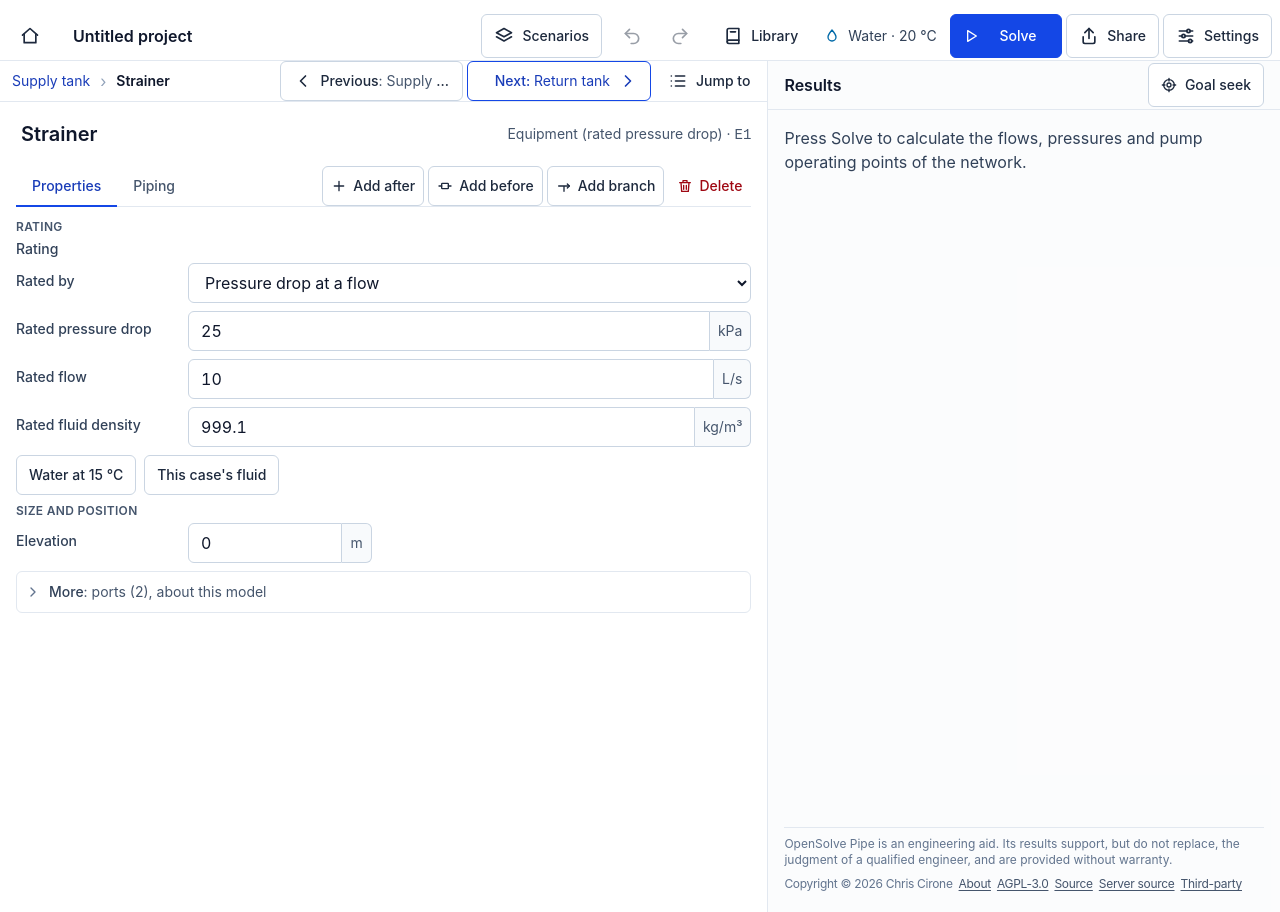
Test: EquipmentForm › stores what is typed exactly in SI, and refuses a value out of the schema bounds
Step 1. Replace the text in the field named "Rated pressure drop (kPa)" with "70" → point(449, 331), box [188,311,710,351]
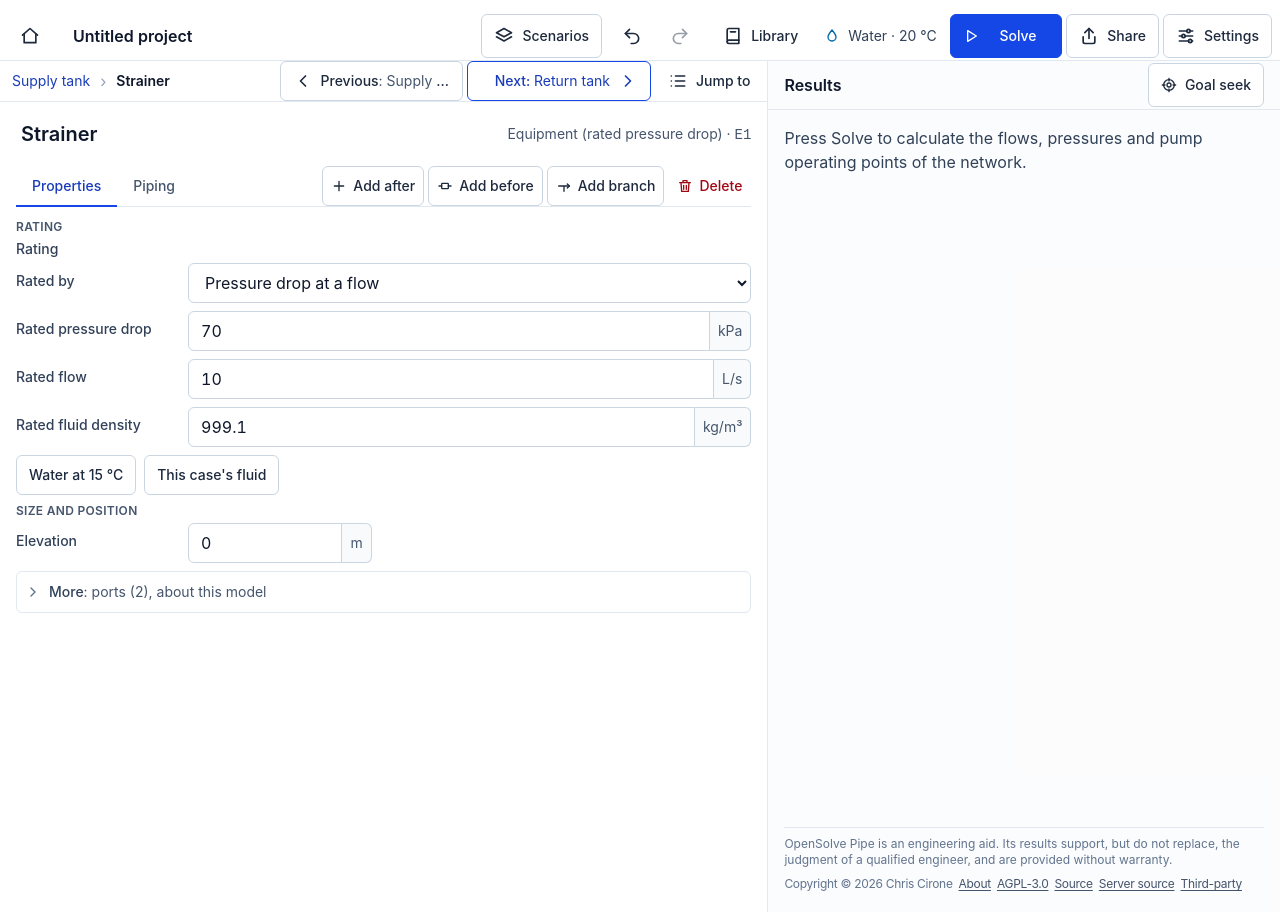
Now the button named "Undo change rated pressure drop" is enabled, box [610,14,654,58]
Step 2. Replace the text in the field named "Rated pressure drop (kPa)" with "0" → point(449, 331), box [188,311,710,351]
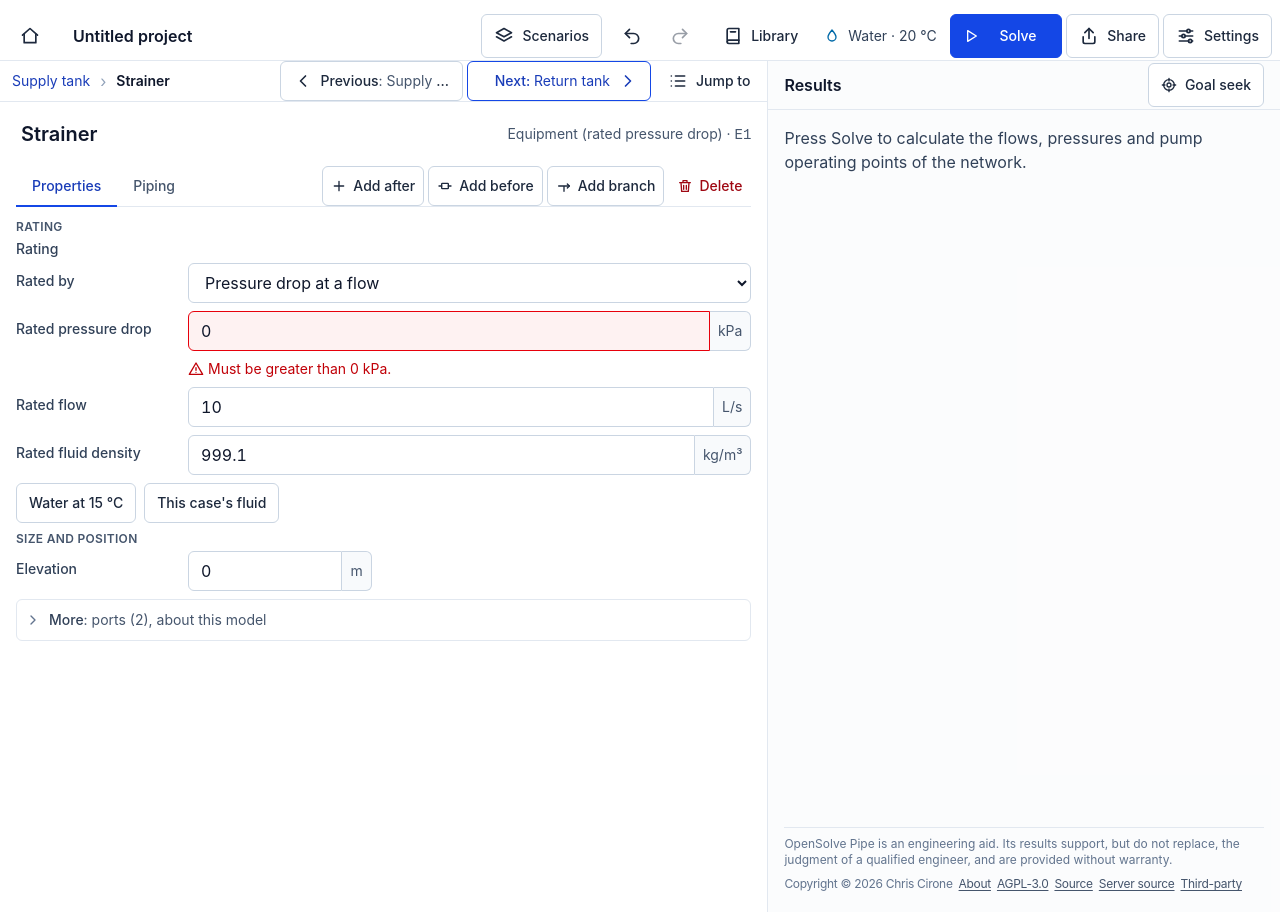
Now the message reads "Must be greater than 0 kPa.", box [208,360,391,377]
Step 3. Replace the text in the field named "Rated pressure drop (kPa)" with "200000" → point(449, 331), box [188,311,710,351]
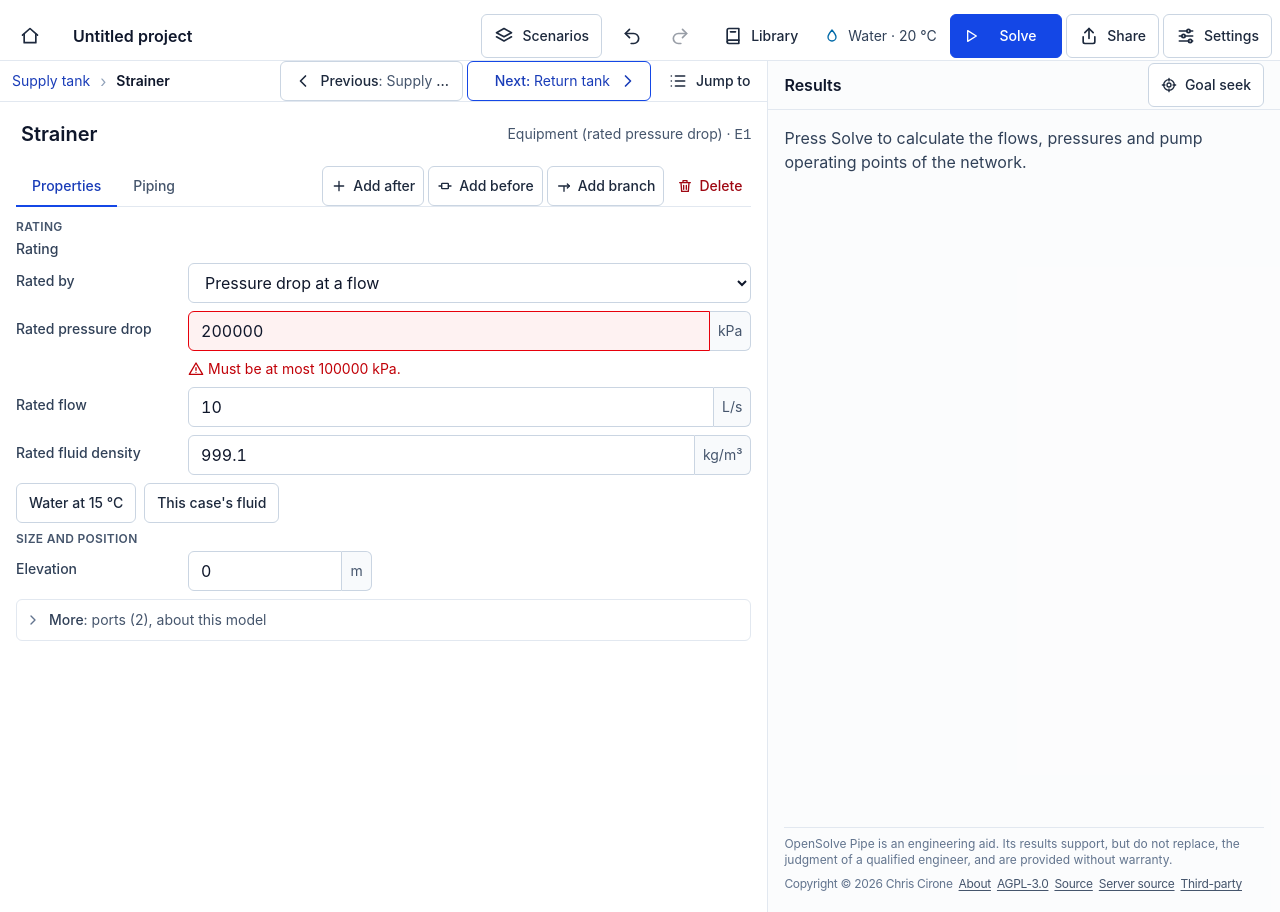
Now the message reads "Must be at most 100000 kPa.", box [208,360,401,377]
